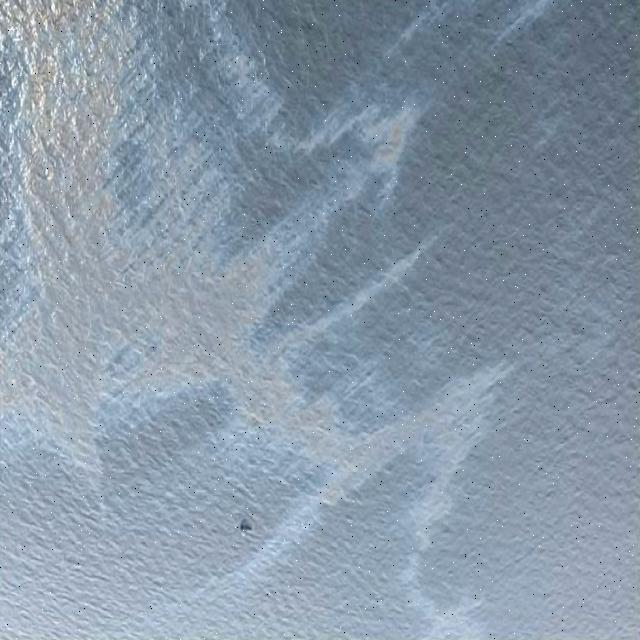oil: (2, 0, 536, 640)
